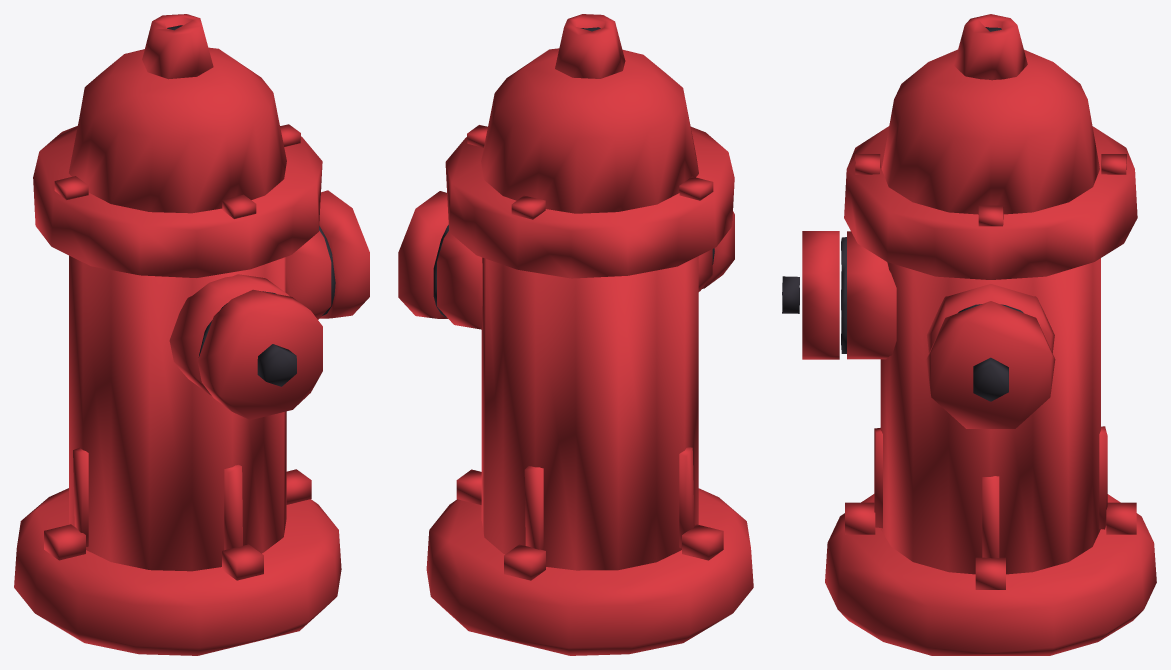
The picture shows the model from 3 angles, left to right: view 1: azimuth 30°, elevation 25°; view 2: azimuth 150°, elevation 25°; view 3: azimuth 270°, elevation 25°; orthographic projection.
Bounding box in the file's own units: 0.6419 × 1.08 × 0.6419.
